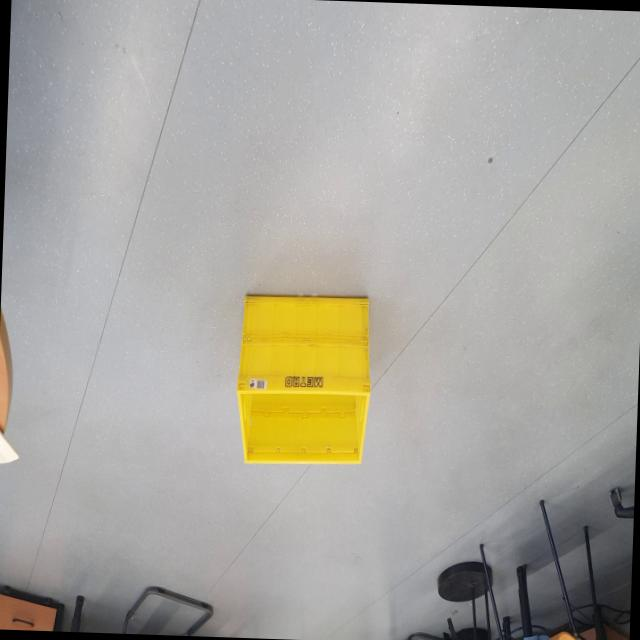box: (228, 245, 390, 502)
